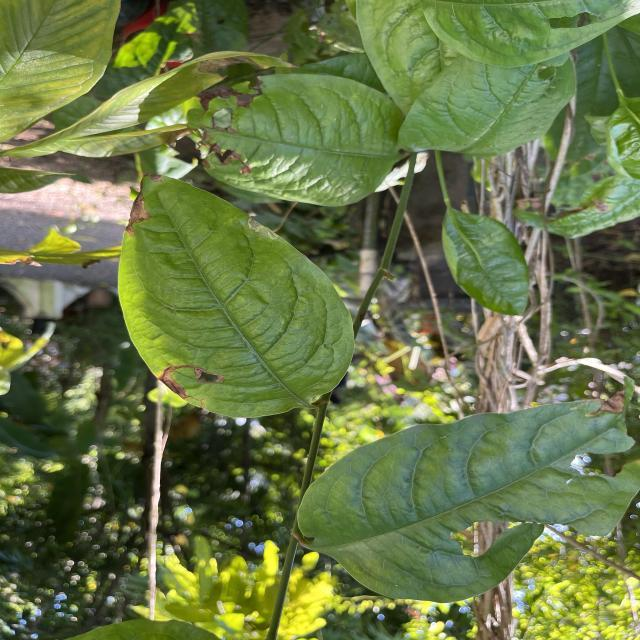Plumbago indica: (282, 393, 636, 604), (113, 172, 359, 420), (172, 71, 396, 208), (402, 39, 590, 167), (438, 208, 532, 319)
